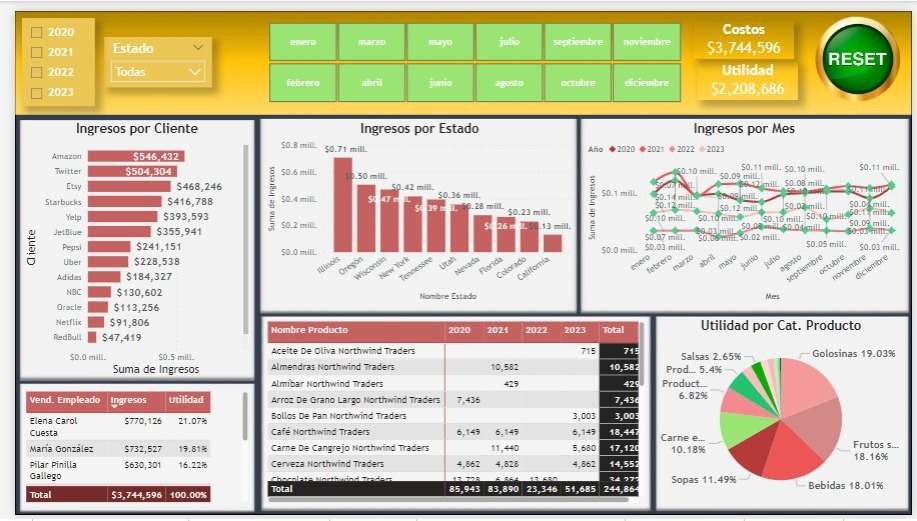

Layout of this report page (visuals, bound fields, positions):
{"tool":"powerbi","page":{"name":"Medidas ","canvas":[1280,720],"ordinal":3},"visuals":[{"type":"clusteredBarChart","title":"Ingresos por Cliente ","fields":{"Y":["Medidas DAX.Ingresos"],"Category":["Ventas.Cliente"]},"box":[9.7,155.7,328,371.1],"z":0},{"type":"columnChart","title":"Ingresos por Estado ","fields":{"Category":["Ventas.Nombre Estado"],"Y":["Medidas DAX.Ingresos"]},"box":[356.7,155.5,442.4,225.5],"z":1000},{"type":"lineStackedColumnComboChart","title":"Ingresos por Mes","fields":{"Category":["calendario.fecha .Variación.Jerarquía de fechas.Mes"],"Y":["Medidas DAX.Ingresos"],"Y2":["Medidas DAX.Margen"]},"box":[813.4,155.5,455.2,264],"z":2000},{"type":"pieChart","title":"Utilidad por Cat. Producto ","fields":{"Category":["Ventas.Categoria Producto"],"Y":["Sum(Ventas.utilidad)"]},"box":[917.4,436.4,351.7,269.7],"z":3000},{"type":"tableEx","fields":{"Values":["Ventas.Vend. Empleado","Medidas DAX.Ingresos","Medidas DAX.Costos","Medidas DAX.utilidad","Medidas DAX.Margen"]},"box":[10.1,539.2,327.6,168],"z":4000},{"type":"pivotTable","fields":{"Rows":["Ventas.Nombre Producto"],"Columns":["calendario.fecha .Variación.Jerarquía de fechas.Año"],"Values":["Sum(Ventas.Cantidad Vend.)"]},"box":[356.1,438.4,547.6,268.8],"z":5000},{"type":"slicer","fields":{"Values":["Ventas.Nombre Estado"]},"box":[126.5,37.5,154.3,72.3],"z":6000},{"type":"slicer","fields":{"Values":["calendario.fecha .Variación.Jerarquía de fechas.Mes"]},"box":[337.8,9.7,636.6,126.5],"z":7000},{"type":"card","title":"Costos","fields":{"Values":["Sum(Ventas.Ingresos)"]},"box":[968.8,13.9,143.2,54.2],"z":8000},{"type":"slicer","fields":{"Values":["calendario.fecha .Variación.Jerarquía de fechas.Año"]},"box":[9.7,9.7,104.2,126.5],"z":9000},{"type":"image","box":[1137,0,130.7,136.2],"z":10000},{"type":"card","title":"Utilidad","fields":{"Values":["Sum(Ventas.utilidad)"]},"box":[974.6,72.8,142.7,54.2],"z":11000},{"type":"actionButton","box":[356.7,379.6,442.4,40],"z":12000}]}

Visuals, with their boxes in screenshot pixels (x1, y1, x2, y2), scaled from the page's 1280x720 canvas onto the 917x521 screenshot:
"Ingresos por Cliente " clusteredBarChart: bbox=(7, 113, 242, 381)
"Ingresos por Estado " columnChart: bbox=(256, 113, 572, 276)
"Ingresos por Mes" lineStackedColumnComboChart: bbox=(583, 113, 909, 304)
"Utilidad por Cat. Producto " pieChart: bbox=(657, 316, 909, 511)
tableEx - Ventas.Vend. Empleado x Medidas DAX.Ingresos: bbox=(7, 390, 242, 512)
pivotTable - Ventas.Nombre Producto x calendario.fecha .Variación.Jerarquía de fechas.Año: bbox=(255, 317, 647, 512)
slicer - Ventas.Nombre Estado: bbox=(91, 27, 201, 79)
slicer - calendario.fecha .Variación.Jerarquía de fechas.Mes: bbox=(242, 7, 698, 99)
"Costos" card: bbox=(694, 10, 797, 49)
slicer - calendario.fecha .Variación.Jerarquía de fechas.Año: bbox=(7, 7, 82, 99)
image: bbox=(815, 0, 908, 99)
"Utilidad" card: bbox=(698, 53, 800, 92)
actionButton: bbox=(256, 275, 572, 304)
